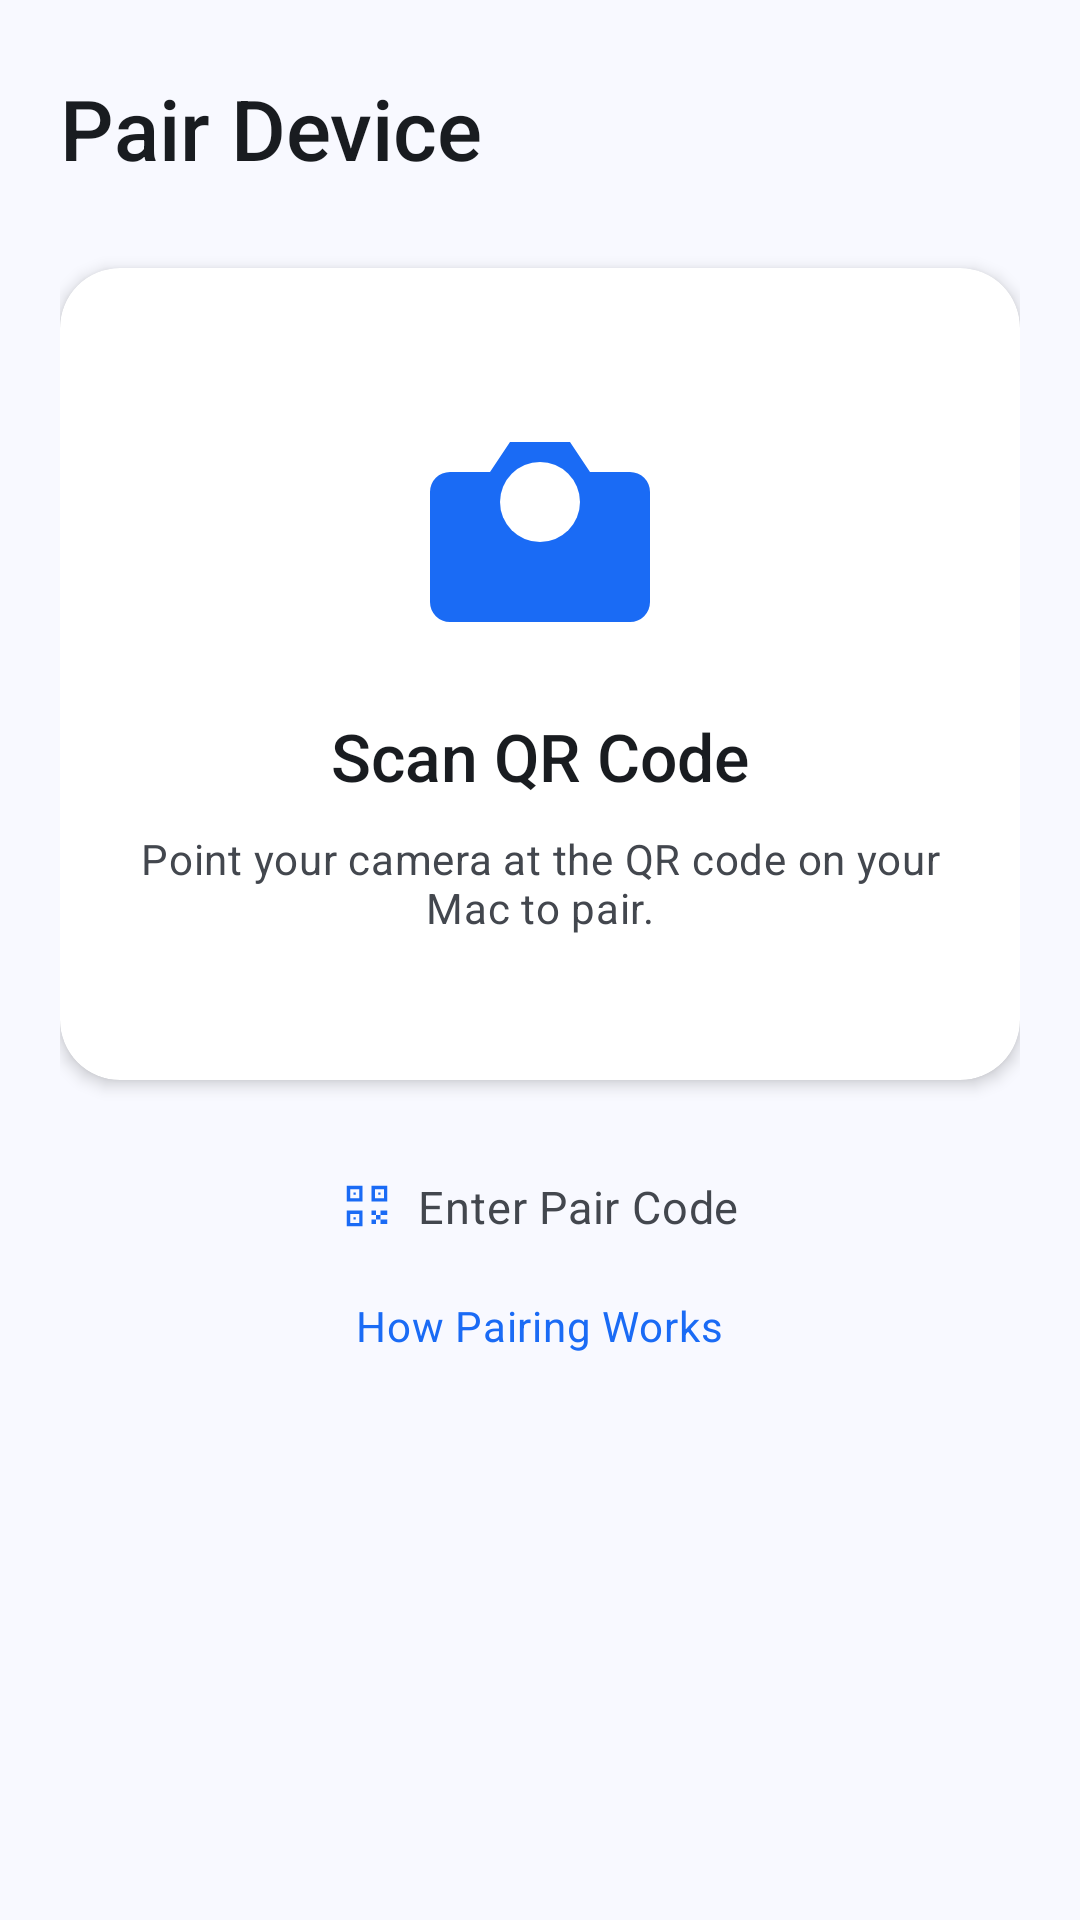

Icon click points for this 1080x1920 phone screenshot, format point (x, y):
qr code: point (367, 1206)
